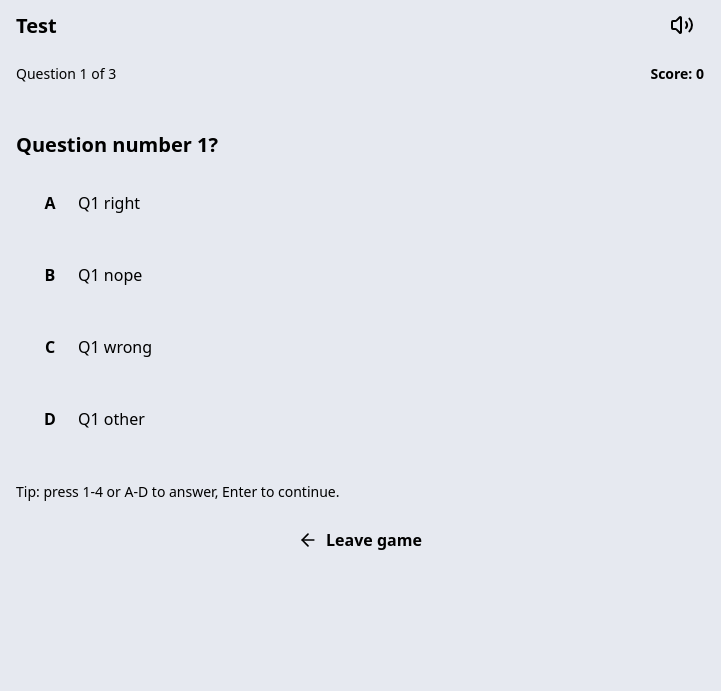
Scenario: TestGameScreen: result › 2 of 3 correct = 67% = 3 stars: still confetti
Earlier steps of the test are not shown.
Click the button "A Q1 right" at (109, 203), box [16,173,704,233]
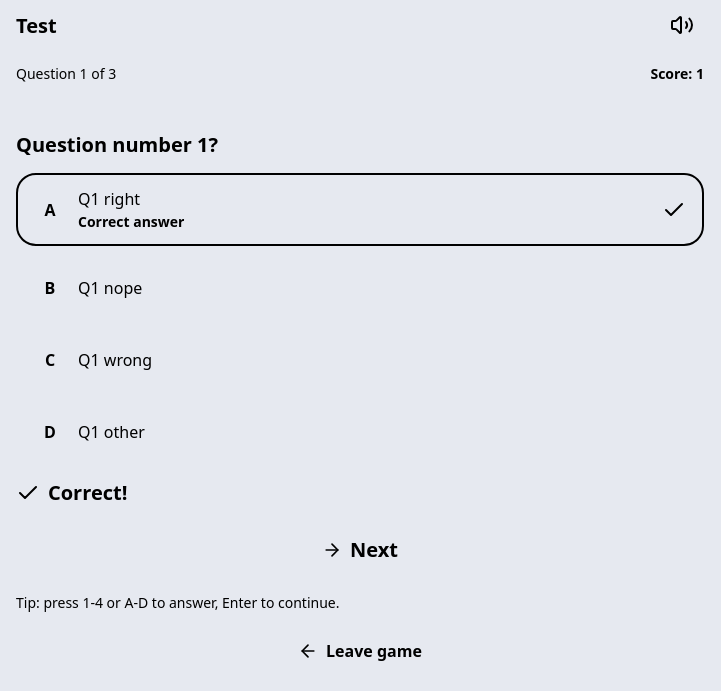
Click the button "Next" at (360, 550), box [16,524,704,576]
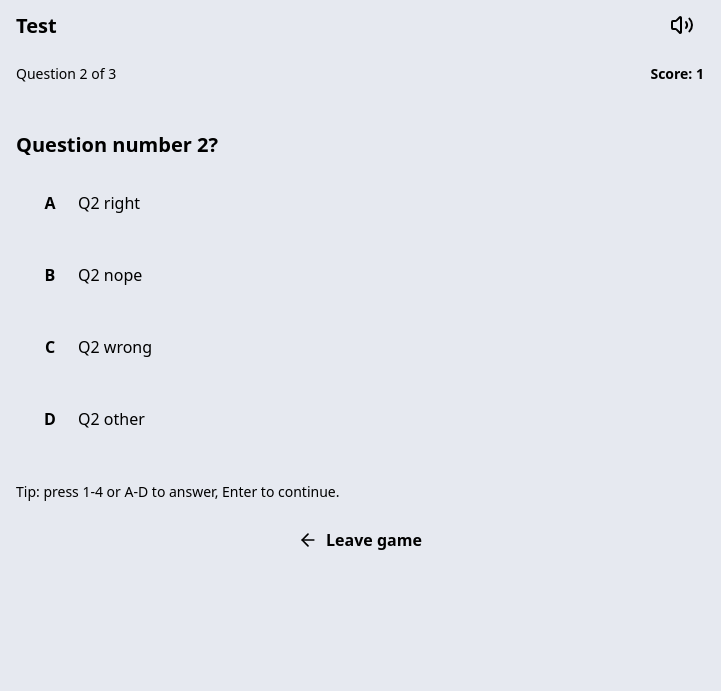
Click the button "C Q2 wrong" at (115, 347), box [16,317,704,377]
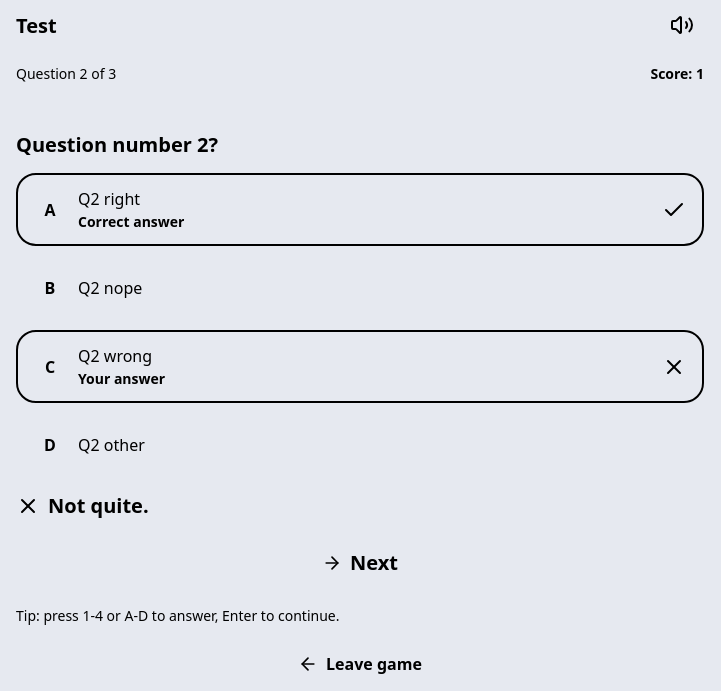
Click the button "Next" at (360, 563), box [16,537,704,589]
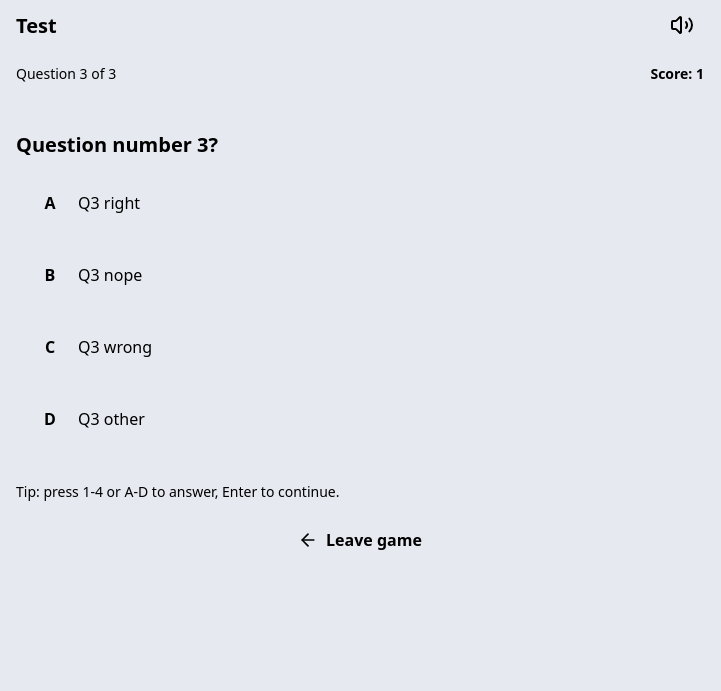
Click the button "A Q3 right" at (109, 203), box [16,173,704,233]
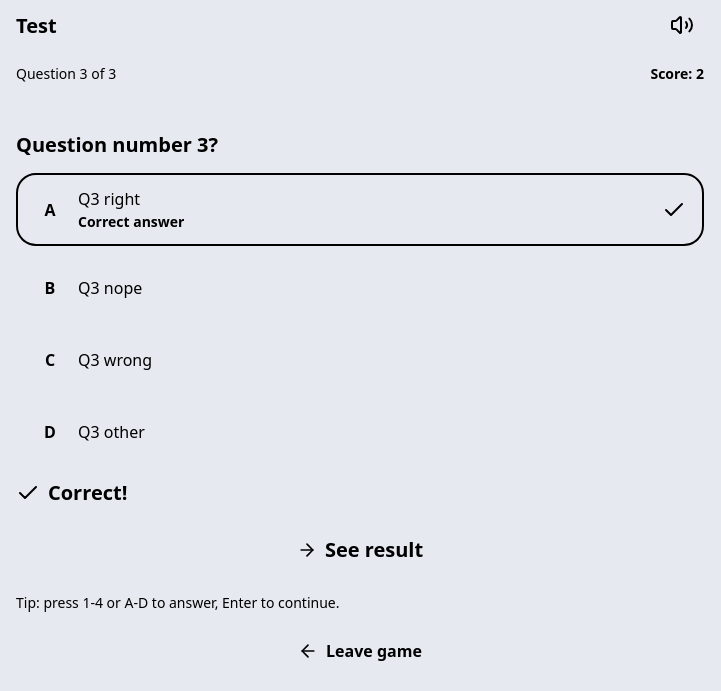
Click the button "See result" at (360, 550), box [16,524,704,576]
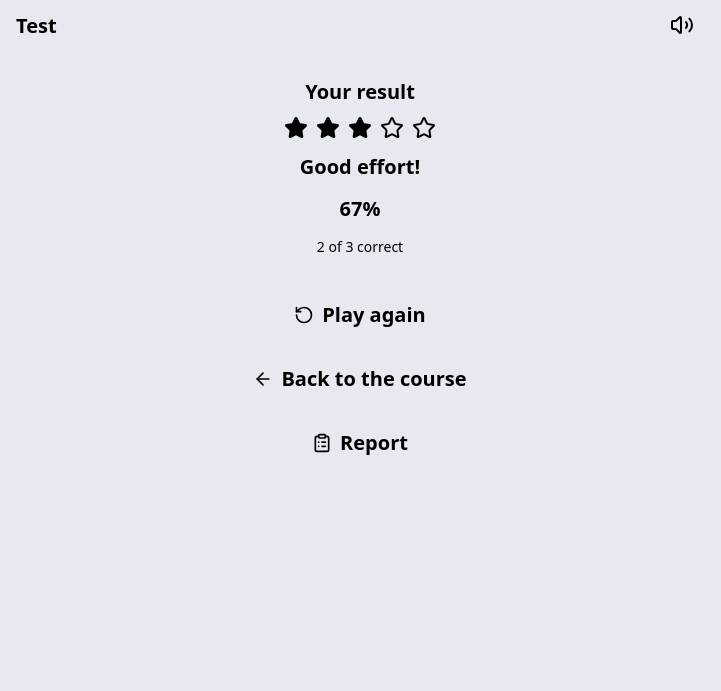
Expected: the text "67%" is shown, [340,194,380,224]
Expected: the text "Good effort!" is shown, [300,152,420,182]
